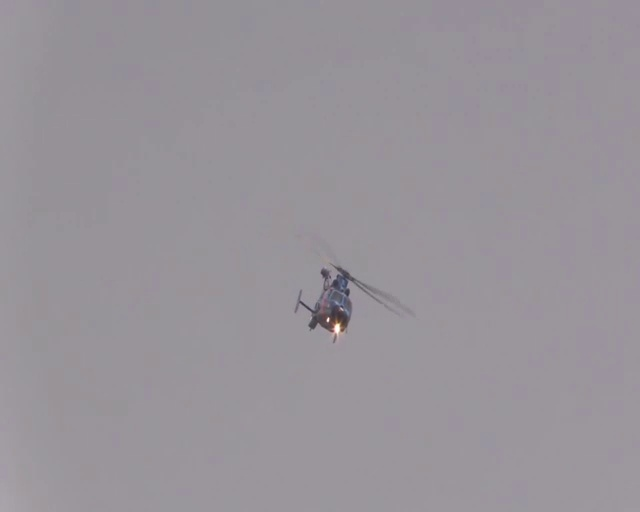HELICOPTER: (294, 229, 415, 342)
